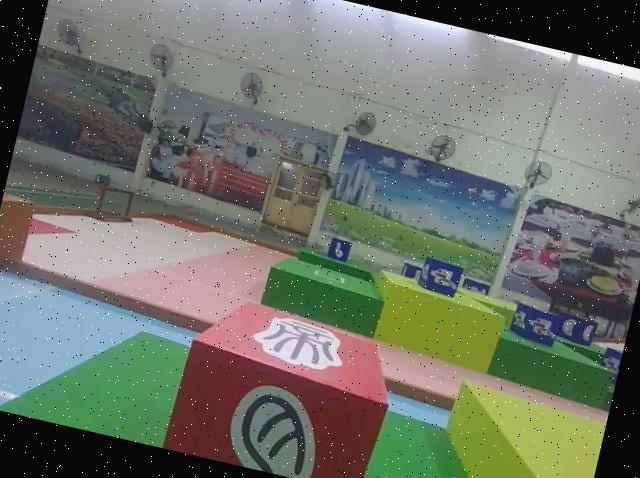R2 Fake: (165, 290, 404, 478)
